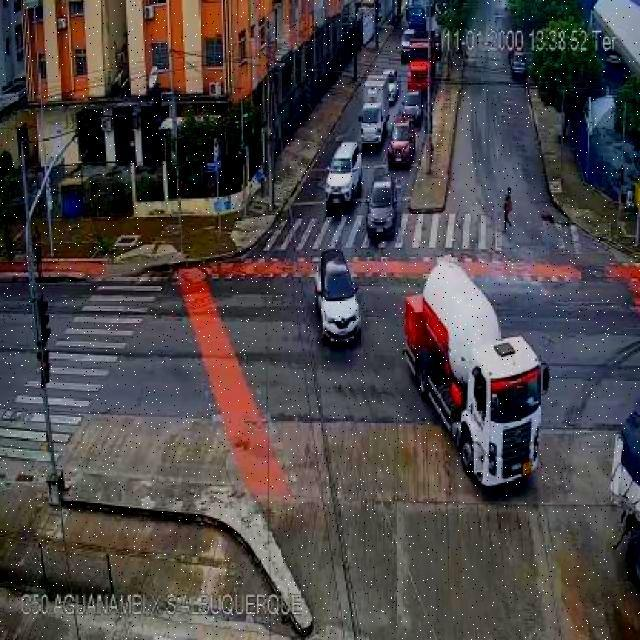Car: (302, 245, 360, 350), (315, 141, 365, 213), (362, 174, 402, 242), (388, 116, 418, 167), (398, 89, 426, 120)
Truck: (388, 266, 566, 496), (358, 76, 389, 146), (404, 40, 439, 89)
